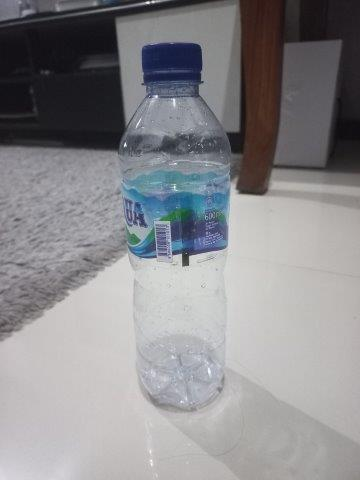botolplastik: (118, 40, 231, 410)
